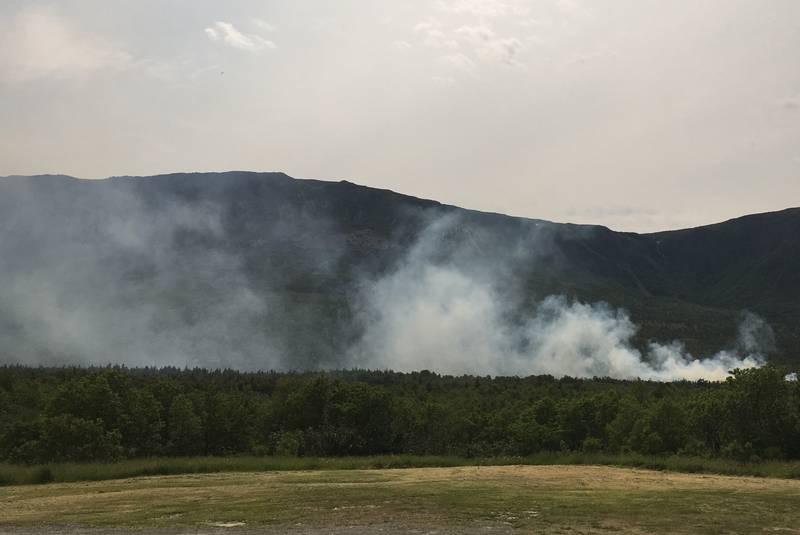smoke: (366, 214, 764, 383), (6, 179, 302, 372)
